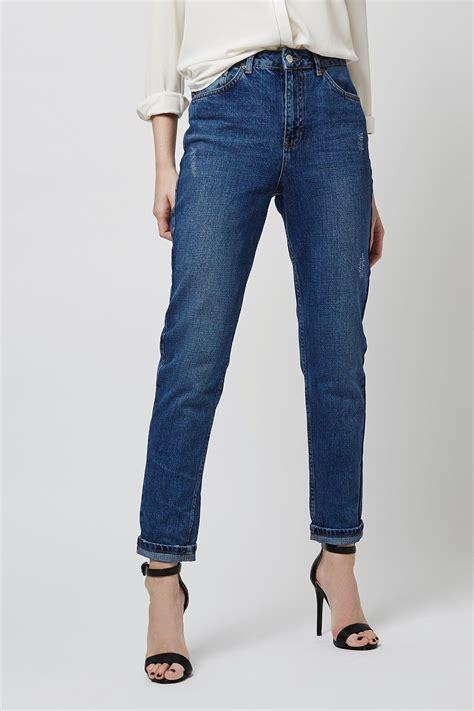pants: (137, 49, 373, 561)
